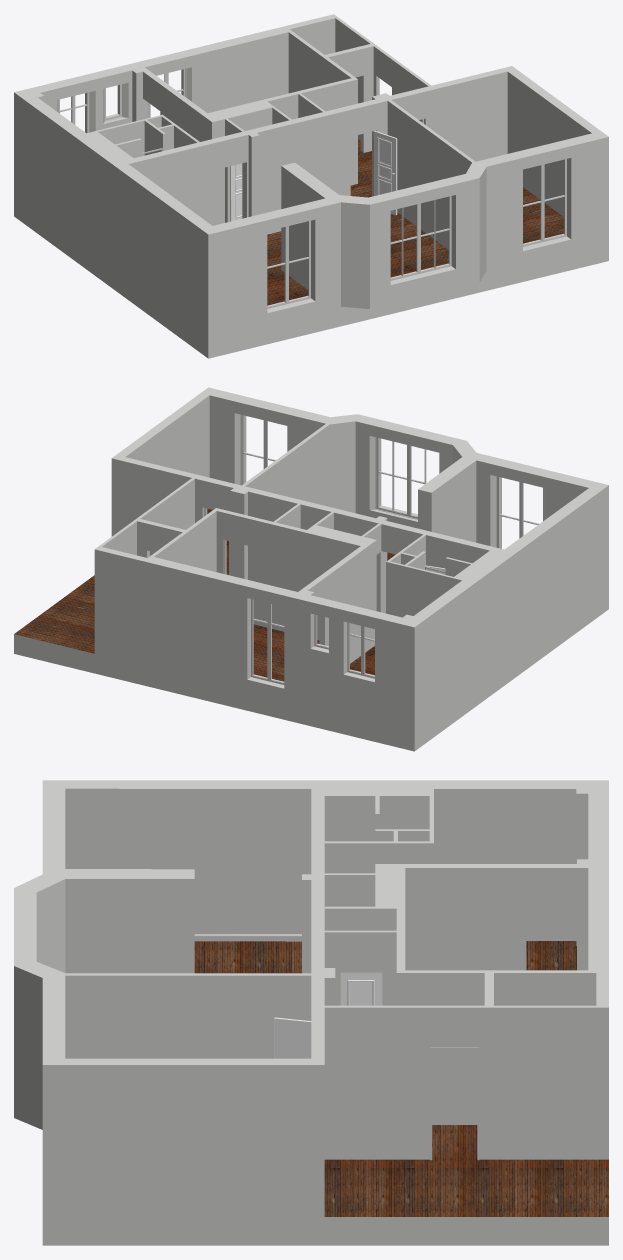
File: scaled.glb
3 renders of one model, top to bottom at view 1: azimuth 30°, elevation 25°; view 2: azimuth 150°, elevation 25°; view 3: azimuth 270°, elevation 25°, orthographic. The views are drawn at different scales.
Parts seen in each view (by area): view 1: Material2.033, Material2.059, Material2.060, Material2.035, Material2.037, Material2.036, Material2.174; view 2: Material2.033, Material2.059, Material2.060, Material2.035, Material2.037, Material2.036, Material2.040; view 3: Material2.033, Material2.060, Material2.059, Material2.057, Material2.122, Material2.032, Material2.225.
Boxes of the visible parts, x1=… form: Material2.033: x1=14, y1=14, x2=608, y2=338; Material2.059: x1=14, y1=197, x2=608, y2=358; Material2.060: x1=267, y1=139, x2=563, y2=305; Material2.035: x1=390, y1=195, x2=455, y2=284; Material2.037: x1=523, y1=158, x2=571, y2=251; Material2.036: x1=267, y1=219, x2=315, y2=312; Material2.174: x1=373, y1=131, x2=397, y2=215; Material2.033: x1=94, y1=387, x2=608, y2=731; Material2.059: x1=14, y1=590, x2=608, y2=751; Material2.060: x1=14, y1=508, x2=395, y2=681; Material2.035: x1=369, y1=436, x2=442, y2=521; Material2.037: x1=234, y1=413, x2=290, y2=484; Material2.036: x1=490, y1=475, x2=545, y2=548; Material2.040: x1=247, y1=598, x2=284, y2=688; Material2.033: x1=14, y1=780, x2=608, y2=1216; Material2.060: x1=194, y1=941, x2=608, y2=1216; Material2.059: x1=42, y1=1217, x2=608, y2=1245; Material2.057: x1=274, y1=1017, x2=311, y2=1058; Material2.122: x1=194, y1=934, x2=301, y2=941; Material2.032: x1=430, y1=1047, x2=479, y2=1160; Material2.225: x1=340, y1=972, x2=382, y2=1005.
Size of the model in its own units: 12.06 by 3.57 by 10.66.
Materials: 6 (3 with a texture image).
